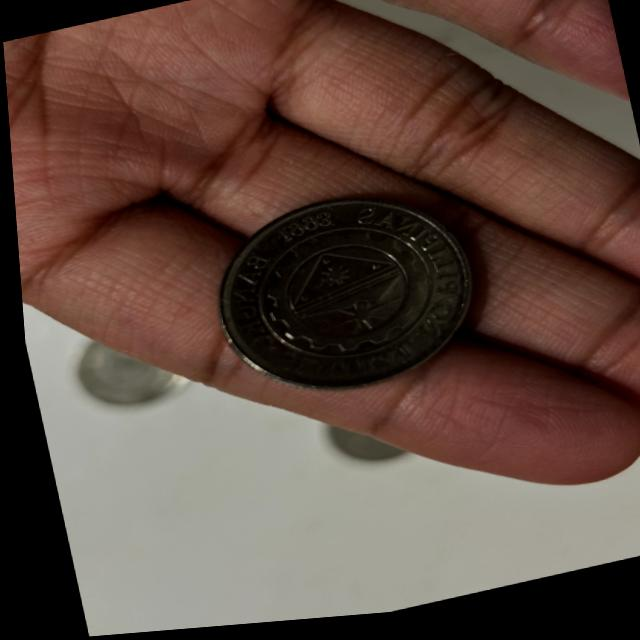1_Old_Back: (236, 215, 442, 382)
